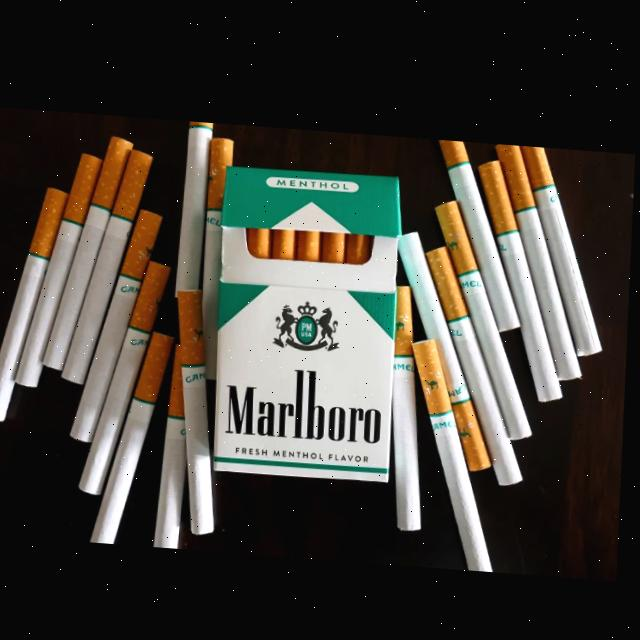cigarette: (428, 238, 528, 477), (437, 192, 536, 431), (400, 224, 496, 463), (74, 206, 165, 441), (83, 258, 174, 493), (65, 147, 154, 383), (46, 133, 135, 369), (480, 152, 567, 393), (497, 136, 586, 370), (18, 151, 105, 386), (414, 331, 498, 563), (520, 137, 606, 348), (95, 329, 178, 541), (0, 186, 71, 421), (439, 132, 524, 323), (180, 285, 219, 531), (396, 278, 426, 524), (205, 133, 235, 376), (177, 117, 215, 295), (159, 340, 191, 545)
